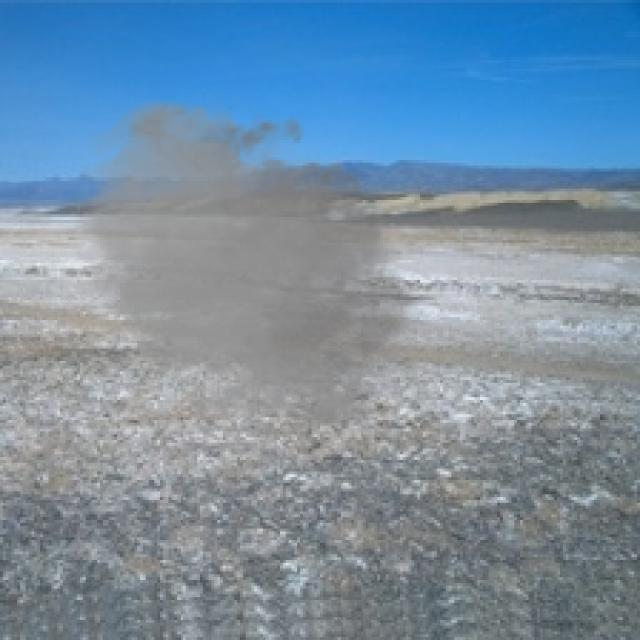Smoke: (66, 94, 440, 440)
